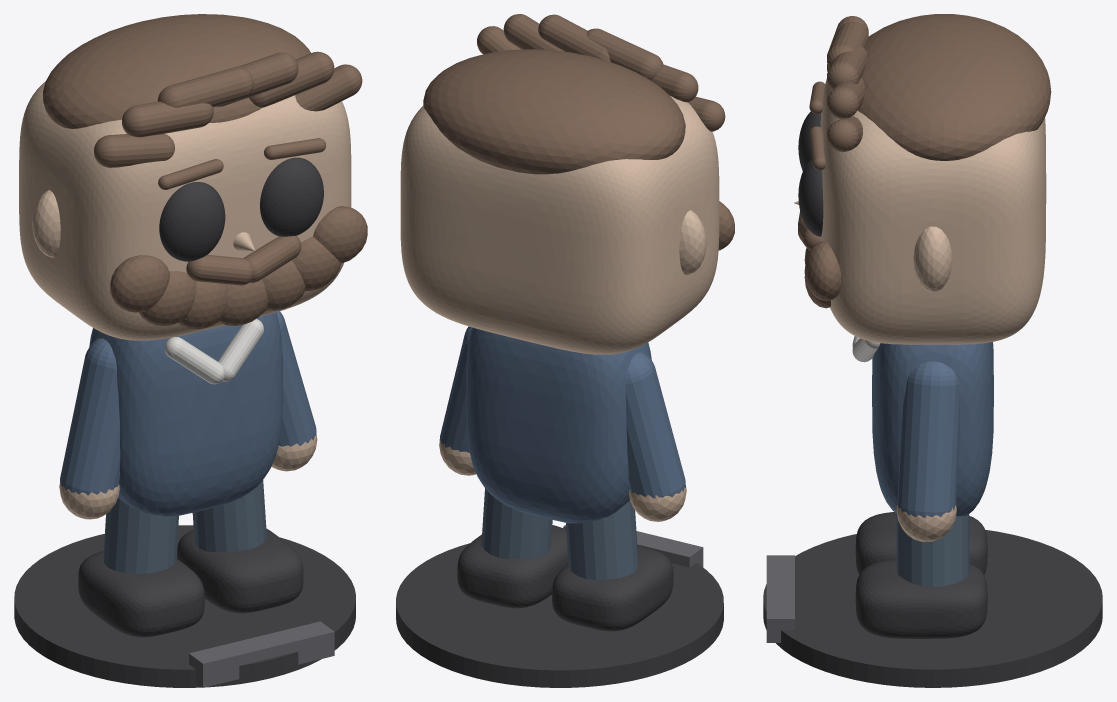
The model's file is jeremy_funko_v8.glb.
The picture shows the model from 3 angles, left to right: view 1: azimuth 30°, elevation 25°; view 2: azimuth 150°, elevation 25°; view 3: azimuth 270°, elevation 25°; orthographic projection. The views are drawn at different scales.
Parts seen in each view (by area): view 1: head, body, base, hair, beard, shoes, hair_sidepart, arms, legs, nameplate, eye_l, eye_r (+3 smaller); view 2: head, body, base, hair, shoes, arms, legs, hair_sidepart, ears, nameplate, beard; view 3: head, base, hair, body, shoes, arms, hair_sidepart, legs, nameplate, beard, ears, eye_r (+2 smaller).
Part boxes in pixels (x1,y1,x2,y2): head: (19, 81, 351, 340); body: (89, 312, 282, 516); base: (14, 525, 355, 687); hair: (43, 14, 310, 128); beard: (110, 206, 367, 329); shoes: (78, 528, 303, 637); hair_sidepart: (94, 51, 362, 167); arms: (59, 311, 317, 519); legs: (103, 480, 266, 573); nameplate: (189, 621, 334, 687); eye_l: (159, 182, 225, 261); eye_r: (260, 157, 323, 236); head: (400, 96, 719, 354); body: (466, 327, 651, 523); base: (396, 543, 723, 687); hair: (423, 49, 685, 174); shoes: (457, 525, 673, 631); arms: (439, 326, 686, 521); legs: (481, 488, 638, 580); hair_sidepart: (477, 14, 725, 131); ears: (679, 210, 706, 275); nameplate: (563, 525, 703, 567); beard: (718, 201, 734, 250); head: (820, 79, 1046, 344); base: (763, 530, 1102, 687); hair: (857, 14, 1051, 160); body: (872, 342, 993, 516); shoes: (855, 512, 987, 638); arms: (896, 361, 960, 541); hair_sidepart: (827, 16, 868, 151); legs: (896, 514, 969, 586); nameplate: (766, 555, 794, 642); beard: (798, 211, 841, 308); ears: (913, 226, 952, 291); eye_r: (798, 158, 823, 236).
Bounding box in the file's own units: 55 × 101 × 54.
